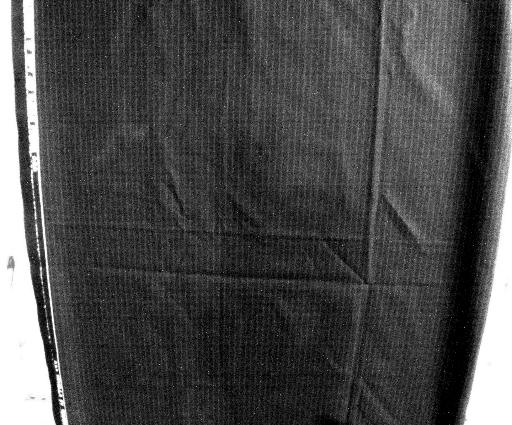fabric_perfect: (0, 2, 511, 425)
